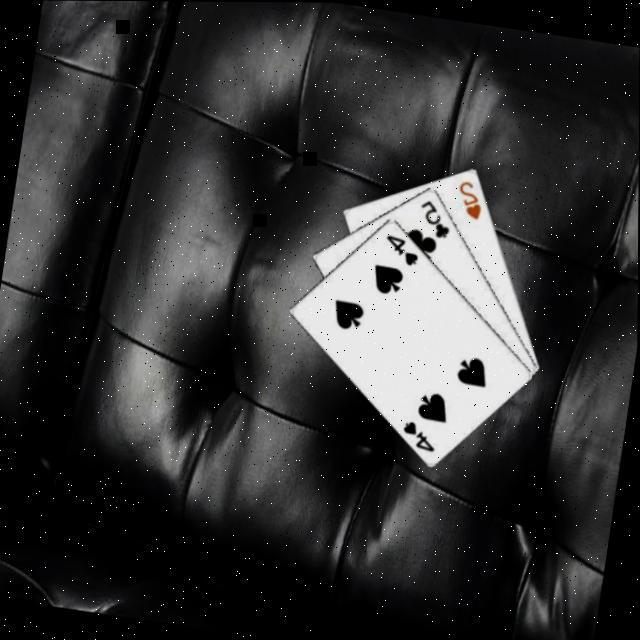2H: (453, 174, 490, 220)
4S: (381, 228, 425, 267), (398, 414, 442, 453)
5C: (415, 192, 458, 239)
